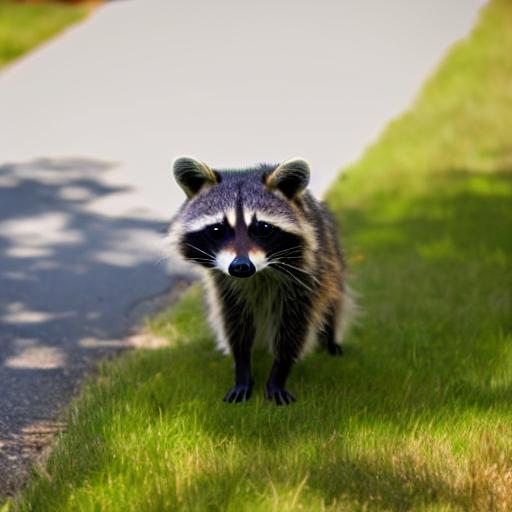raccoon: (152, 149, 371, 402)
